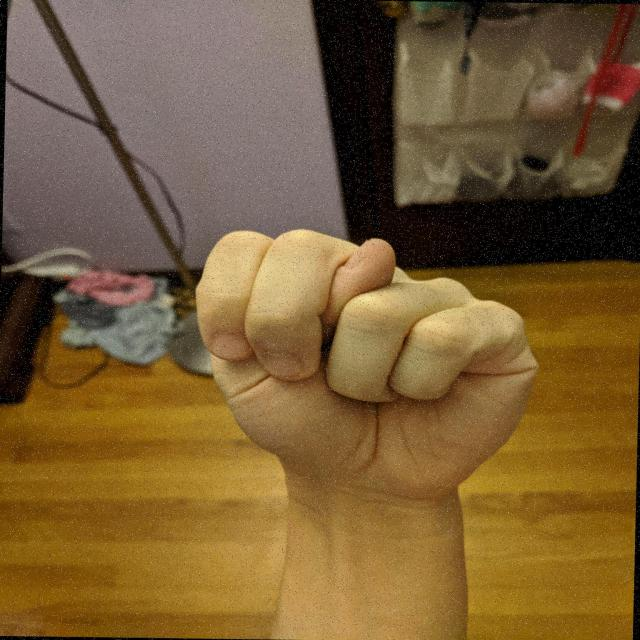N: (180, 223, 552, 500)
